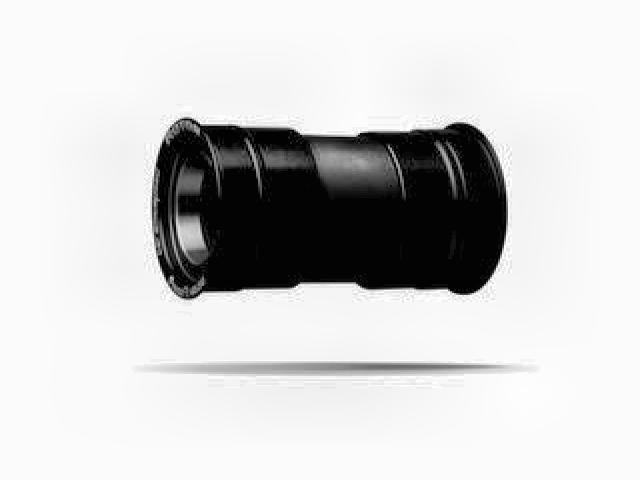bottom_bracket: (144, 116, 511, 303)
